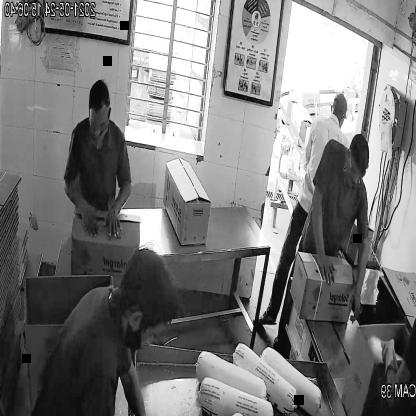goggles: (346, 150, 368, 185)
